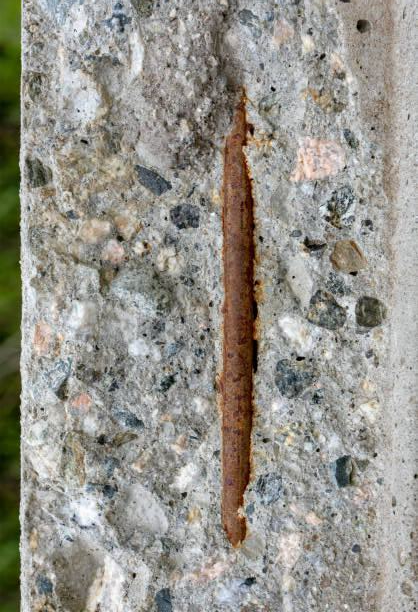Exposed reinforcement: (219, 85, 257, 547)
Spalling: (20, 1, 401, 612)
